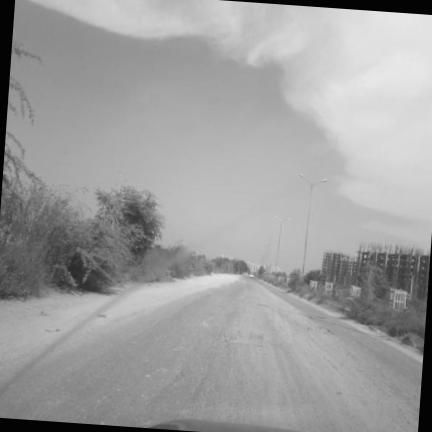Road: (0, 277, 422, 431)
